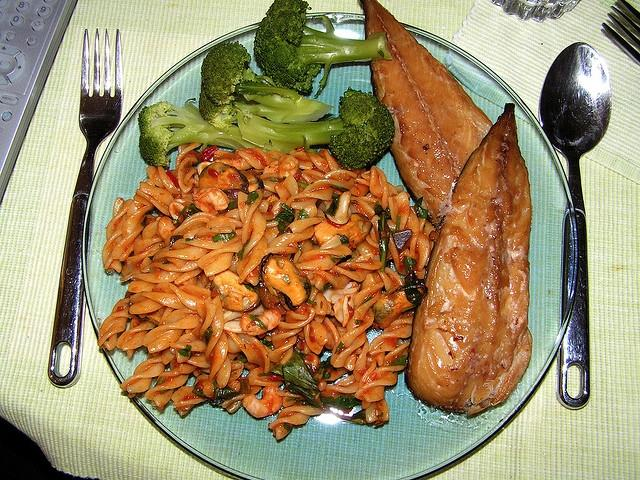broccoli: (253, 0, 392, 99), (236, 86, 396, 171), (198, 41, 334, 128), (138, 98, 280, 168)
